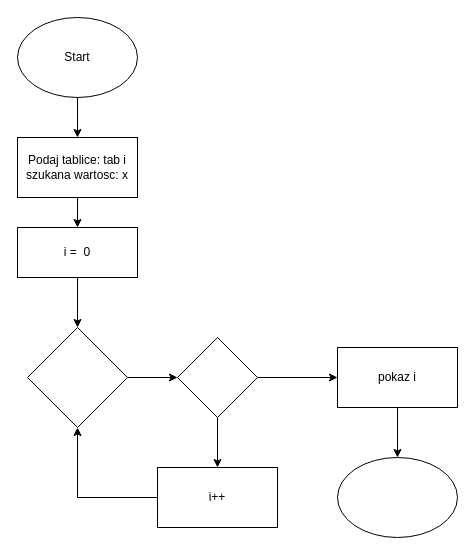
The diagram is 475 pixels wide and 555 high, and some of its shapes have lost their labels. Each missing label, with the centre of its shape:
i < dlugosc tab: pixel 77 377
Stop: pixel 397 497
tab[i] == x: pixel 217 377
